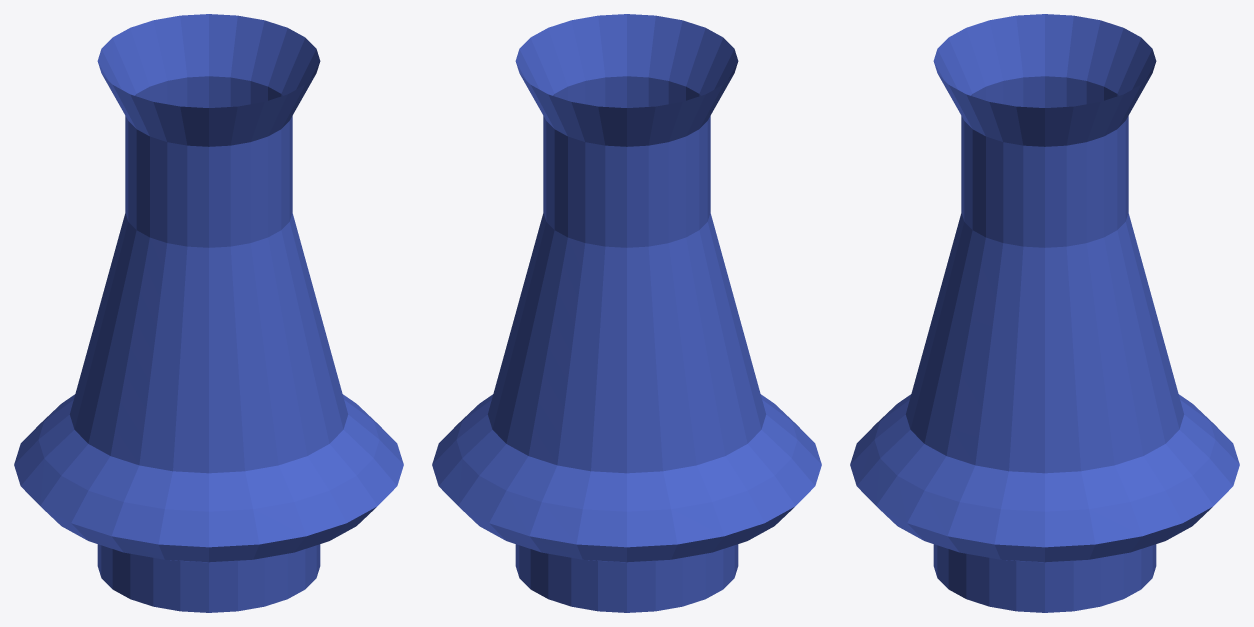
The model's file is simple_vase.obj.
The picture shows the model from 3 angles, left to right: view 1: azimuth 30°, elevation 25°; view 2: azimuth 150°, elevation 25°; view 3: azimuth 270°, elevation 25°; orthographic projection.
Visible parts, largest first — view 1: vase_body; view 2: vase_body; view 3: vase_body.
Boxes of the visible parts, x1,y1,x2,y2 form: vase_body: (14, 14, 403, 612); vase_body: (432, 14, 821, 612); vase_body: (850, 14, 1239, 612).
Bounding box in the file's own units: 1.4 × 2 × 1.4.
